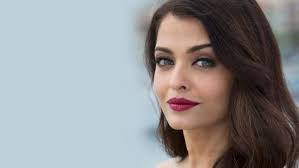n.sharp: (169, 60, 190, 91)
